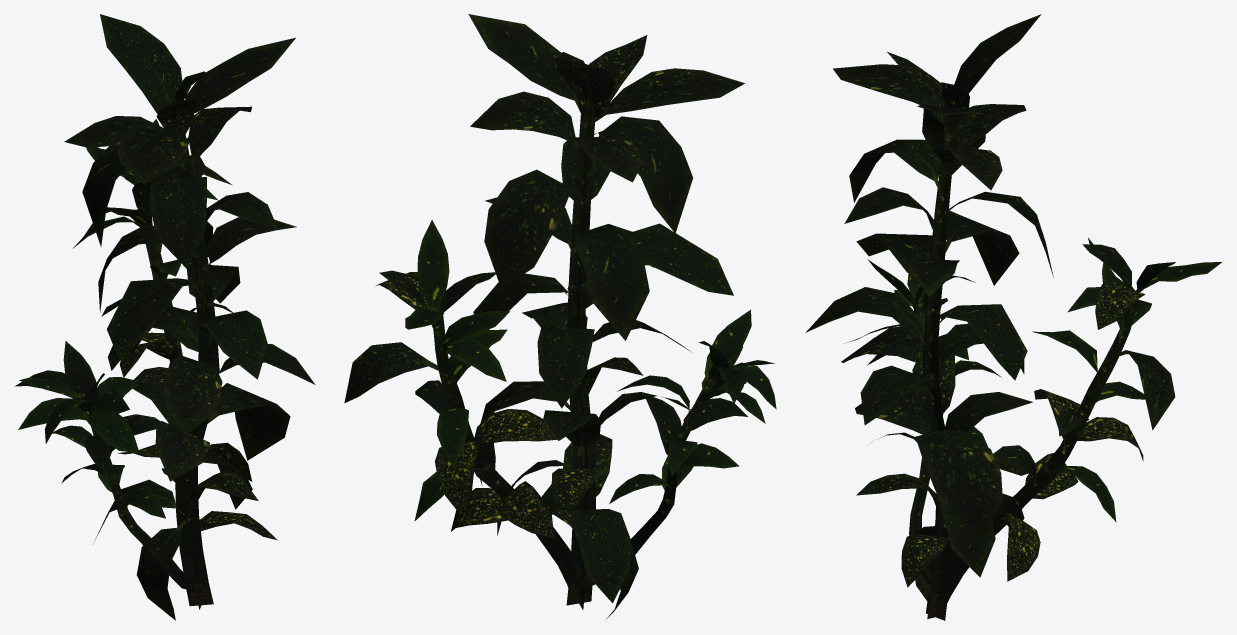
Rendered from herb.fbx.
3 renders of one model, left to right at view 1: azimuth 30°, elevation 25°; view 2: azimuth 150°, elevation 25°; view 3: azimuth 270°, elevation 25°, orthographic. The views are drawn at different scales.
Parts seen in each view (by area): view 1: _8d3b_VarA_LOD1; view 2: _8d3b_VarA_LOD1; view 3: _8d3b_VarA_LOD1.
Part boxes in pixels (box(x1,y1,x2,y2)): _8d3b_VarA_LOD1: box(14, 14, 315, 620); _8d3b_VarA_LOD1: box(344, 14, 776, 619); _8d3b_VarA_LOD1: box(805, 14, 1221, 620).
Bounding box in the file's own units: 65.52 × 119 × 76.77.
